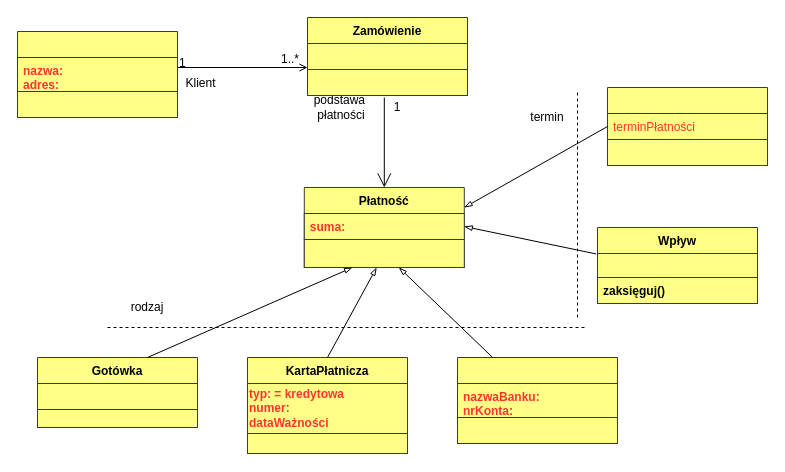
The diagram is 785 pixels wide and 472 high, and some of its shapes have lost their labels. The box of each missing label's shape, as (x1, y1, x2, y2) in pixels:
dataZłożenia: (306, 42, 468, 70)
Hurtownia: (16, 30, 178, 92)
kwotaPrzekazania: (36, 382, 198, 410)
Należność: (606, 86, 768, 166)
Obciaż: (246, 432, 408, 454)
Przelew: (456, 356, 618, 444)
